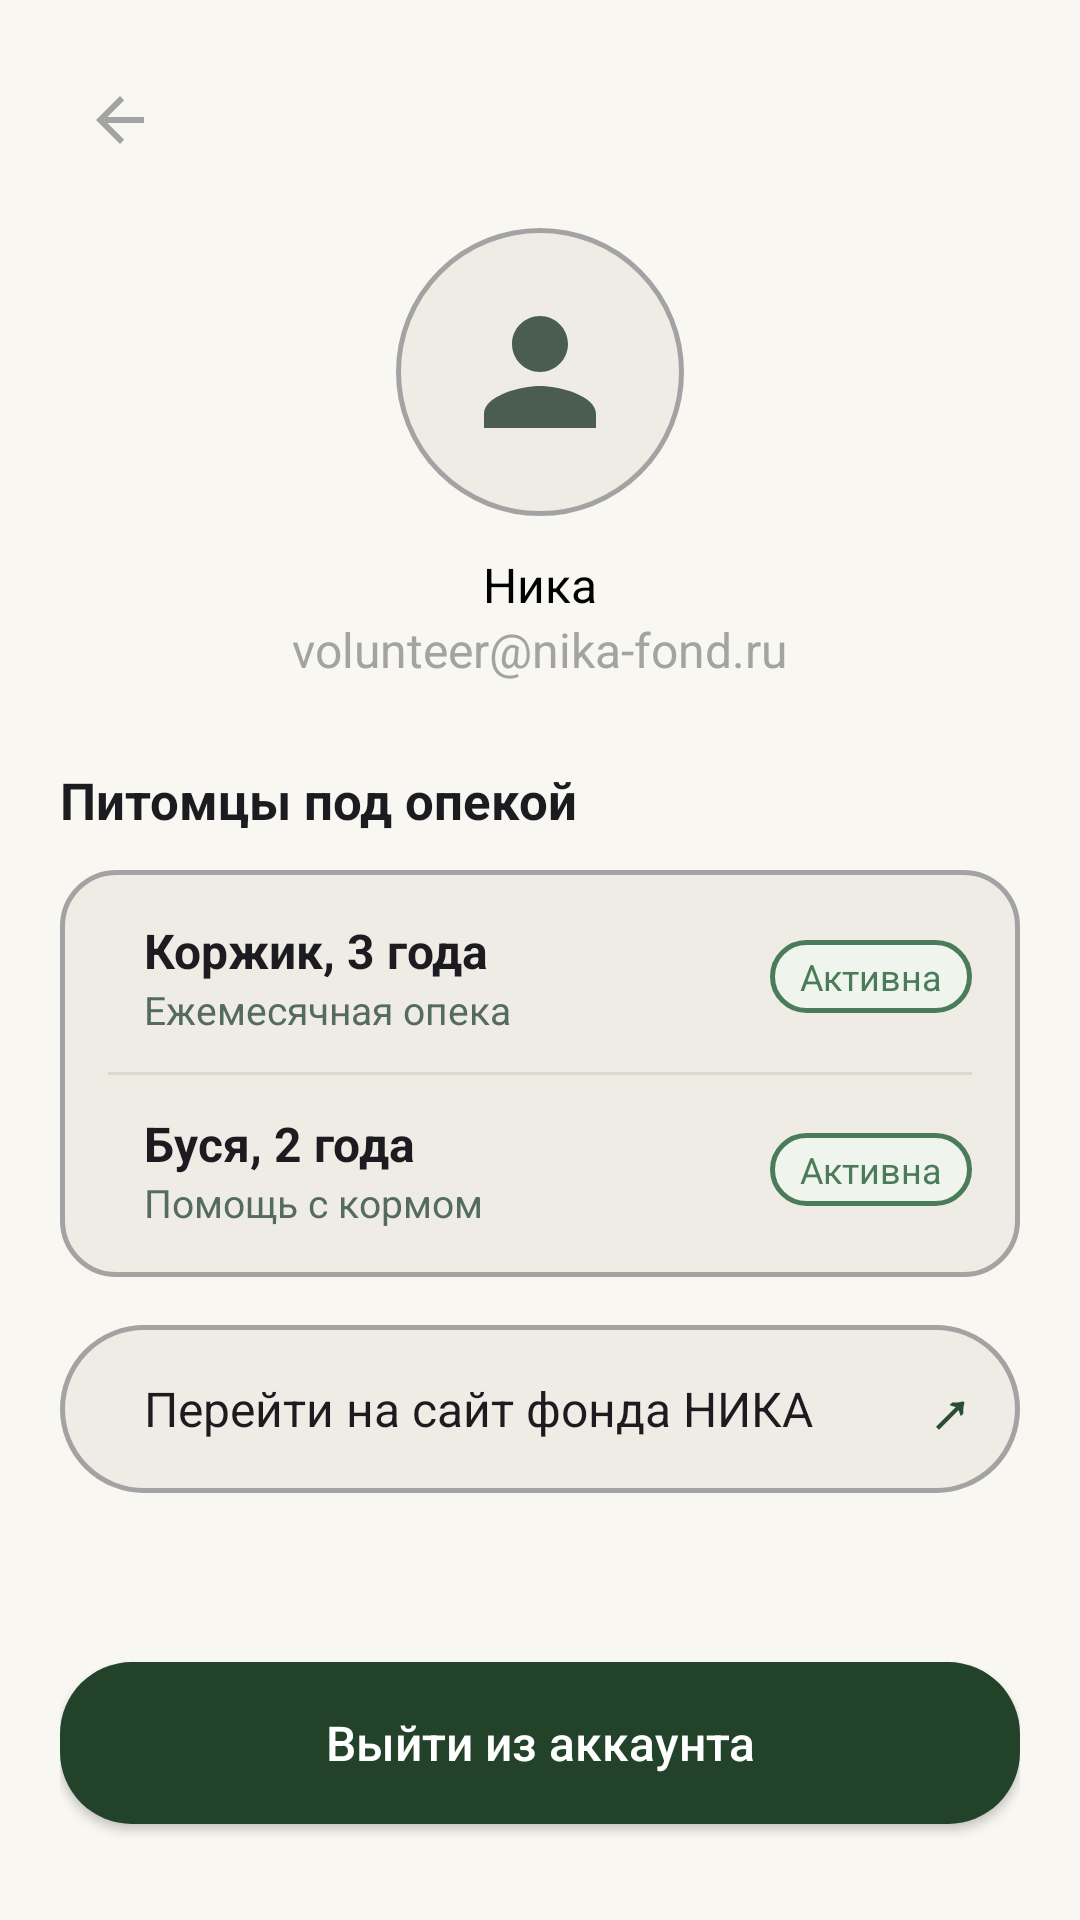

Where to tap for icons on this 1080*1920 app screen, as point (x, y):
person: point (540, 372)
Назад: point (120, 120)
